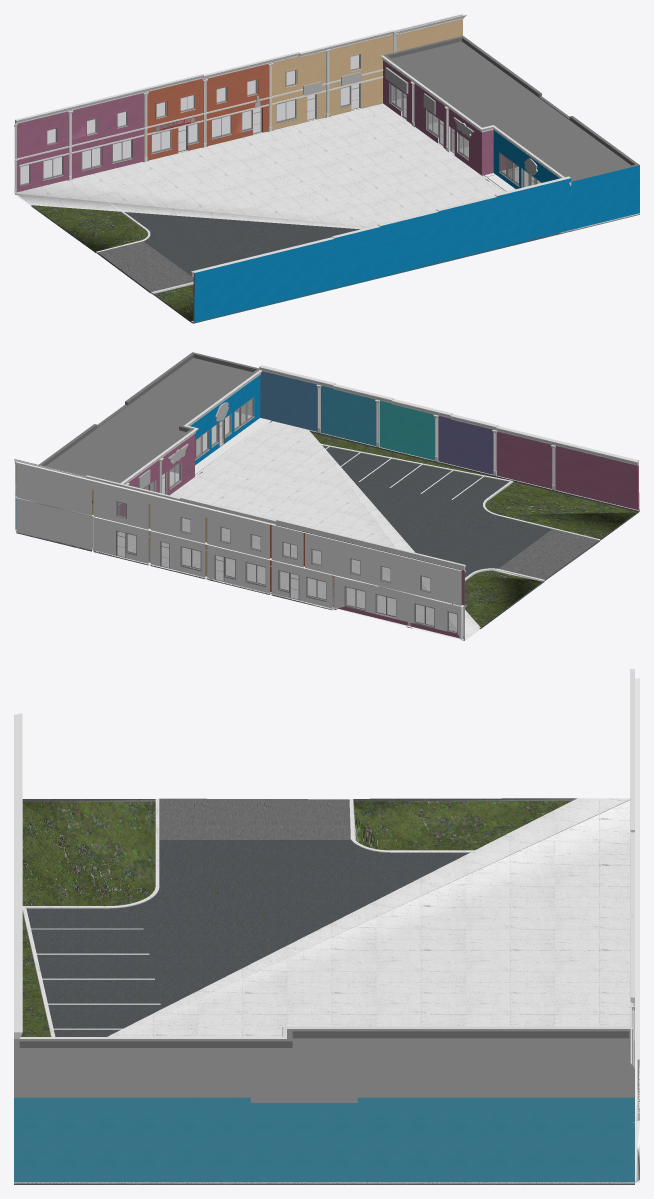
Rendered from exterior edit3.fbx.
The picture shows the model from 3 angles, top to bottom: view 1: azimuth 30°, elevation 25°; view 2: azimuth 150°, elevation 25°; view 3: azimuth 270°, elevation 25°; orthographic projection. The views are drawn at different scales.
Parts seen in each view (by area): view 1: exterior edit; view 2: exterior edit; view 3: exterior edit.
Part boxes in pixels (left/top/right/bottom): exterior edit: left=14, top=14, right=639, bottom=323; exterior edit: left=14, top=352, right=639, bottom=640; exterior edit: left=14, top=669, right=639, bottom=1184.
Size of the model in its own units: 18934 by 3002 by 12922.
